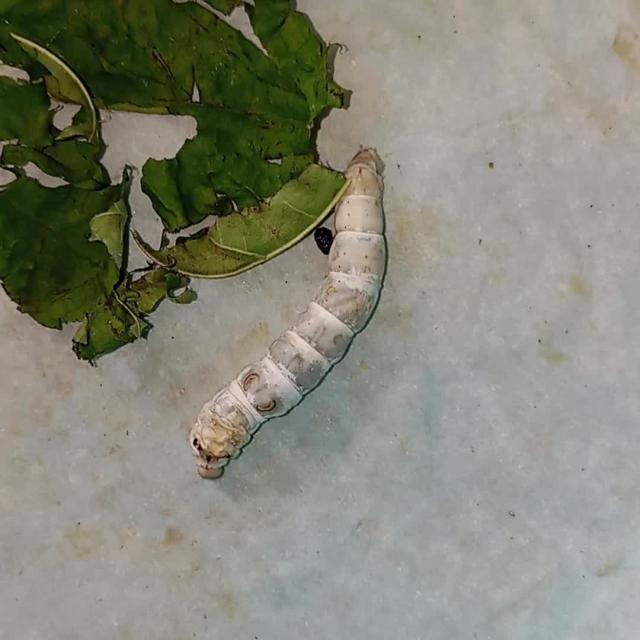Grasserie: (170, 122, 436, 500)
